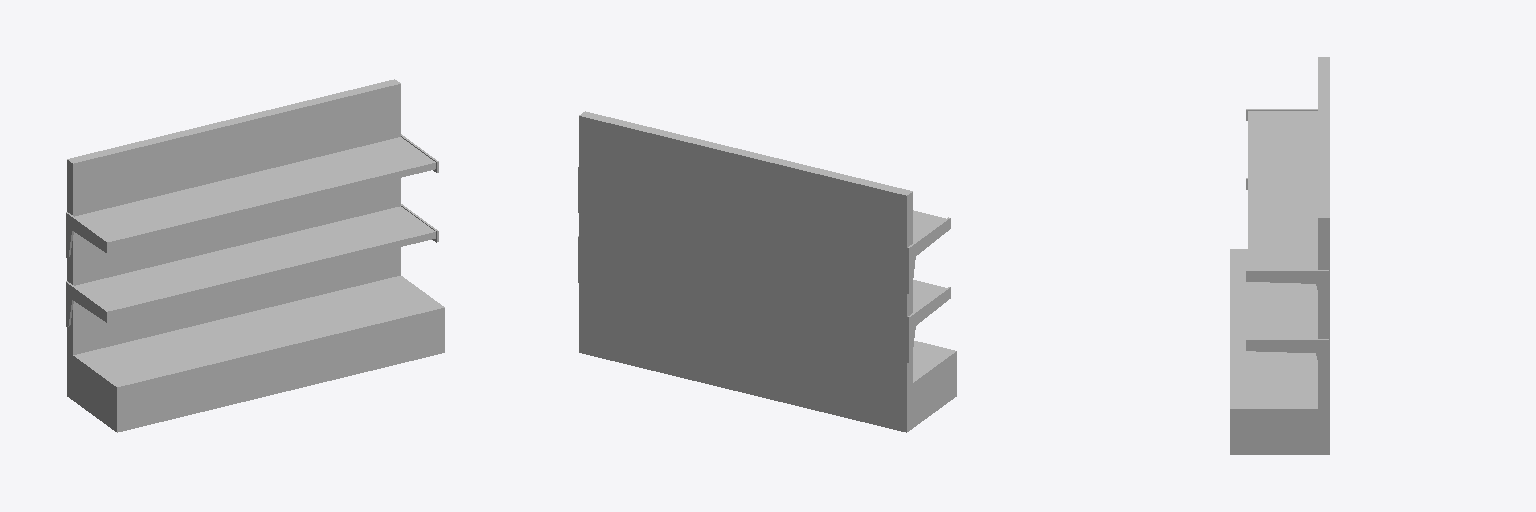
File: shelving.obj
3 views of the same model, side by side, from view 1: azimuth 30°, elevation 25°; view 2: azimuth 150°, elevation 25°; view 3: azimuth 270°, elevation 25° (orthographic).
Visible parts, largest first — view 1: ShelvingFBXASC046003; view 2: ShelvingFBXASC046003; view 3: ShelvingFBXASC046003.
Part boxes in pixels (bbox=[...]): ShelvingFBXASC046003: bbox=[66, 79, 444, 432]; ShelvingFBXASC046003: bbox=[578, 111, 956, 432]; ShelvingFBXASC046003: bbox=[1230, 57, 1329, 454].
Bounding box in the file's own units: 240 × 164 × 62.78.